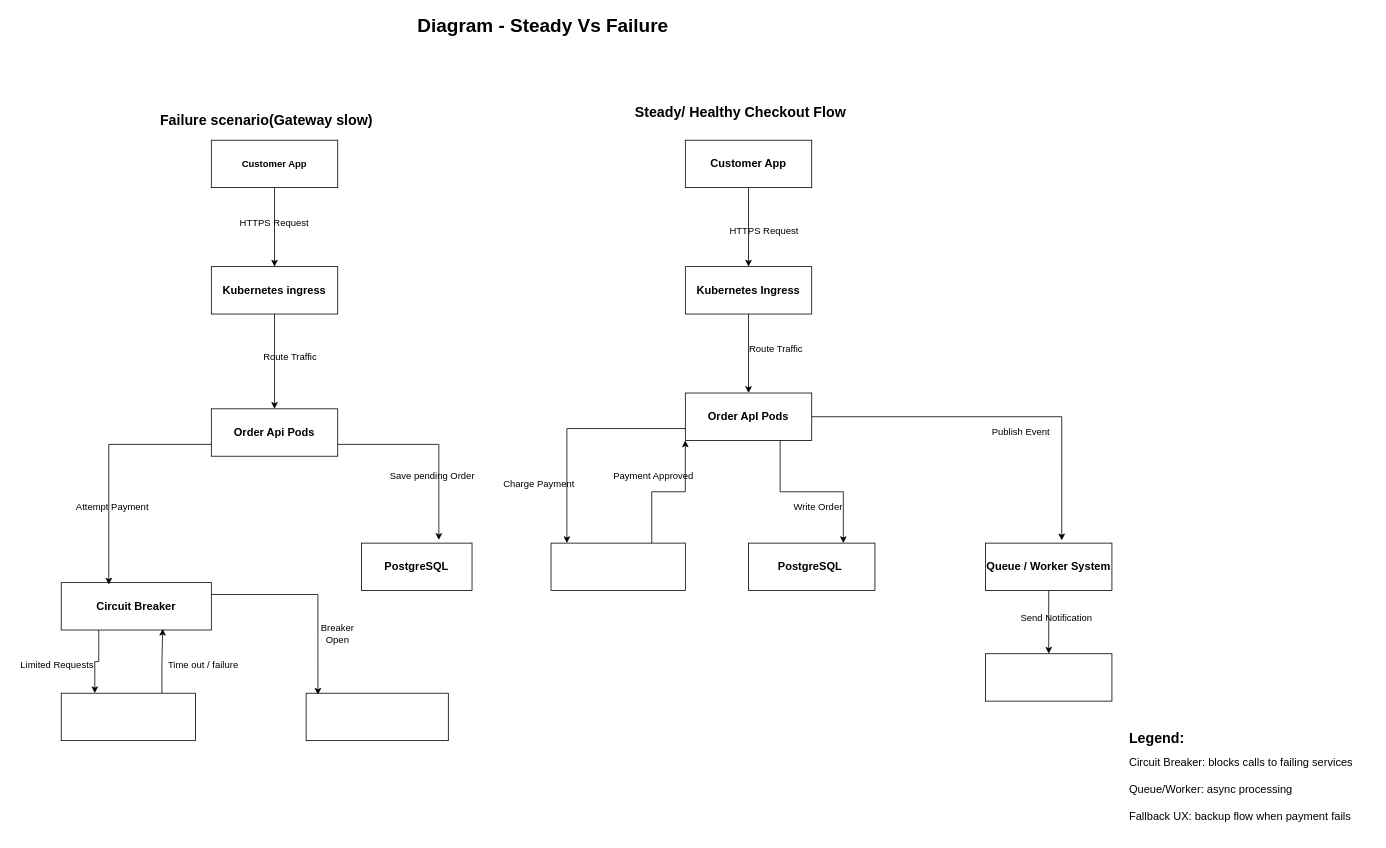
Image size: 1386x848. Some labels were removed from this diagram. Here are the shapes that lost their labels. From the top down, the centre of each, then its label:
At [617,566]: "Payment Gateway".
At [1048,677]: "SMS / Push Provider".
At [128,716]: "Payment Gateway (Slow / 500 Errors)".
At [376,716]: "Fallback UX / Pay later".
